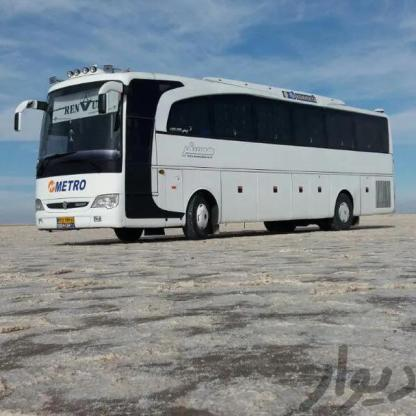Bus: (12, 64, 407, 249)
